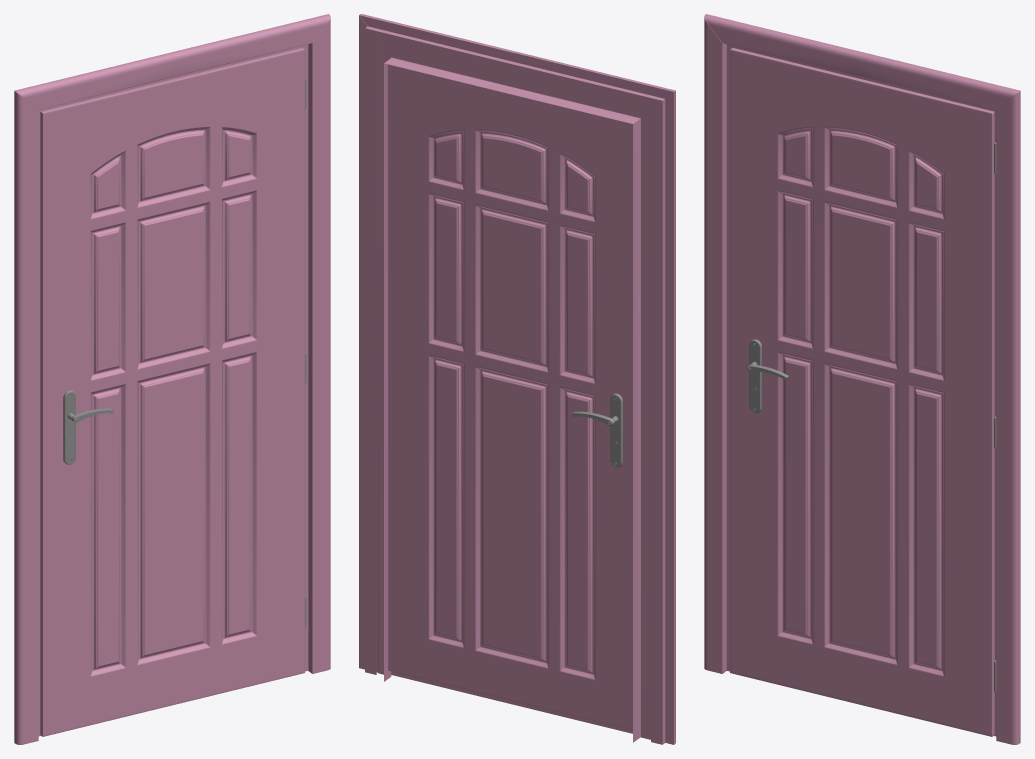
The model's file is door057.FBX.
The picture shows the model from 3 angles, left to right: view 1: azimuth 30°, elevation 25°; view 2: azimuth 150°, elevation 25°; view 3: azimuth 330°, elevation 25°; orthographic projection.
Parts seen in each view (by area): view 1: door_5701, door_5700, ru4ka_022; view 2: door_5701, door_5700, ru4ka_026; view 3: door_5701, door_5700, ru4ka_022.
Boxes of the visible parts, x1,y1,x2,y2 form: door_5701: (40,47,304,736); door_5700: (14,14,330,744); ru4ka_022: (63,390,78,464); door_5701: (388,64,632,733); door_5700: (359,14,675,744); ru4ka_026: (607,393,622,467); door_5701: (730,47,994,736); door_5700: (704,14,1020,744); ru4ka_022: (746,339,761,413).
Bounding box in the file's own units: 42.52 × 84.25 × 5.21.
